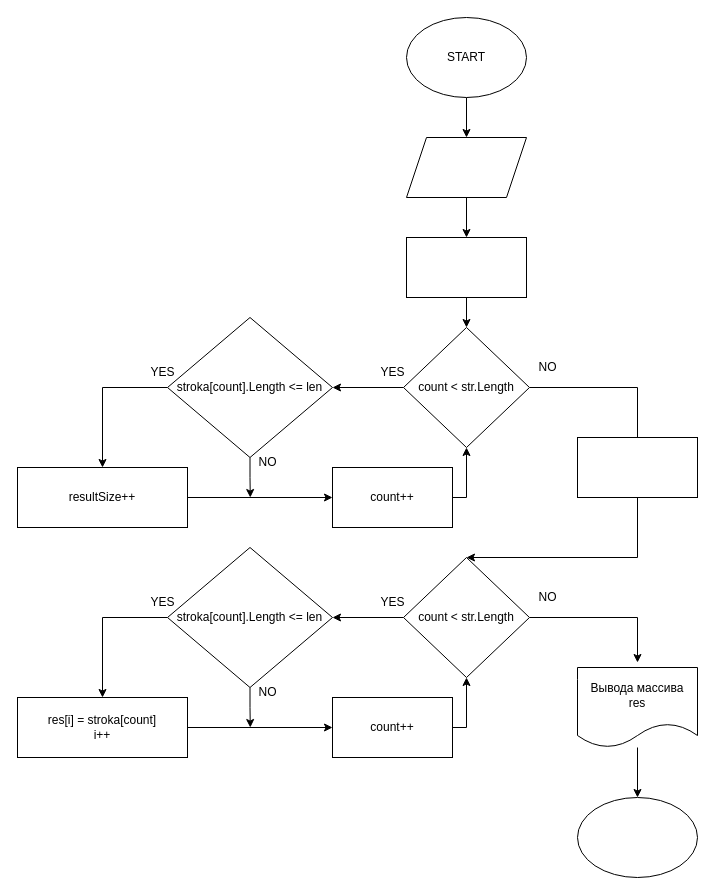
This 715x895 diagram has some shape labels left out. The box of each missing label's shape, as (x1, y1, x2, y2) in pixels:
count = 0 i = 0 resultSize= 0 len = 3: (406, 236, 526, 298)
count = 0 res = [resultSize]: (576, 436, 698, 498)
END: (576, 796, 698, 878)
str = [...]: (406, 136, 526, 198)
